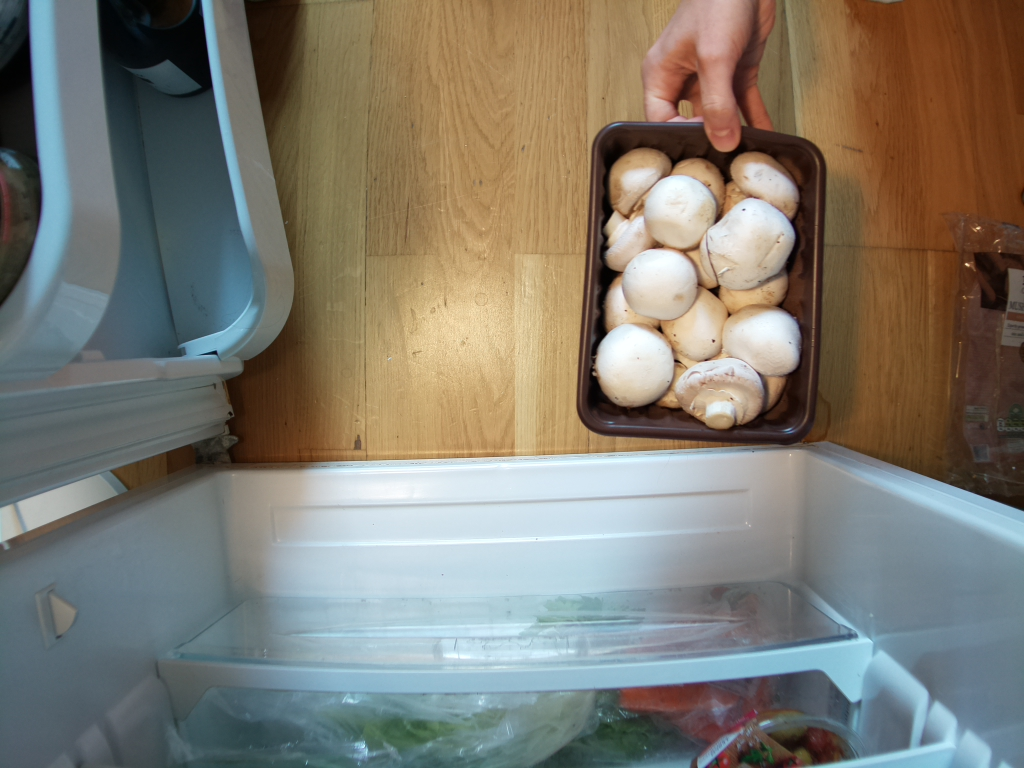mushrooms: (583, 102, 827, 449)
